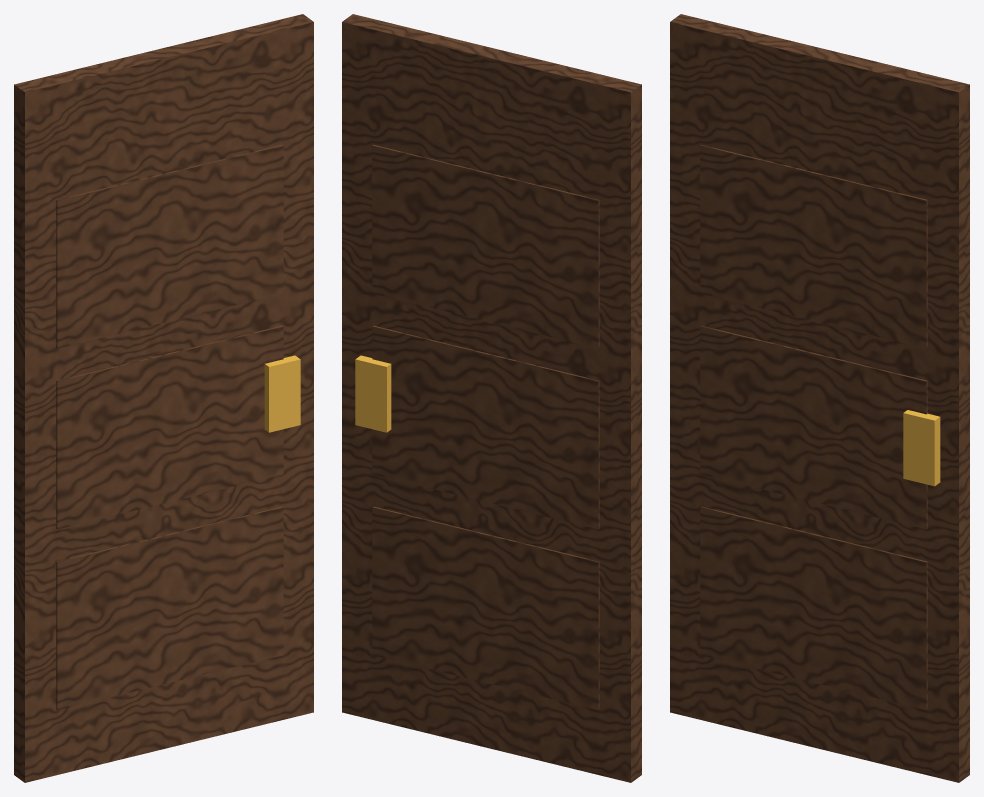
The model's file is door_front.obj.
The picture shows the model from 3 angles, left to right: view 1: azimuth 30°, elevation 25°; view 2: azimuth 150°, elevation 25°; view 3: azimuth 330°, elevation 25°; orthographic projection.
Visible parts, largest first — view 1: door_front; view 2: door_front; view 3: door_front.
Boxes of the visible parts, x1,y1,x2,y2 form: door_front: (14,14,313,782); door_front: (342,14,641,782); door_front: (670,14,969,782).
Bounding box in the file's own units: 0.92 × 2.1 × 0.12.
Materials: 2 (1 with a texture image).
